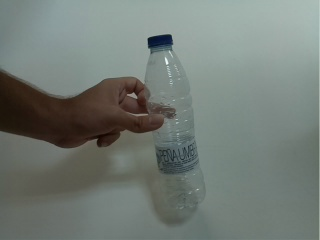botella plastico: (142, 34, 209, 211)
